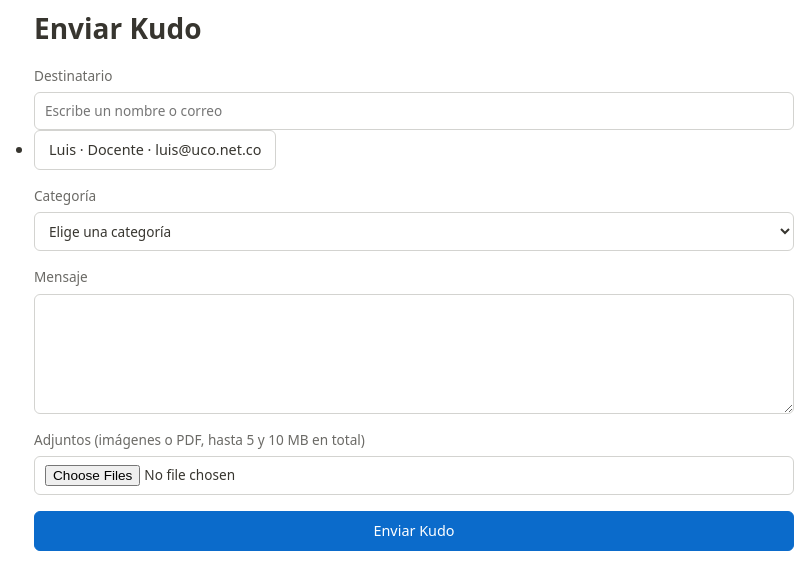
Scenario: publishes the kudo to the chosen recipient and shows the state of each channel
Step 1. Click the button "Luis · Docente · luis@uco.net.co" → (155, 150), box [34,130,276,170]
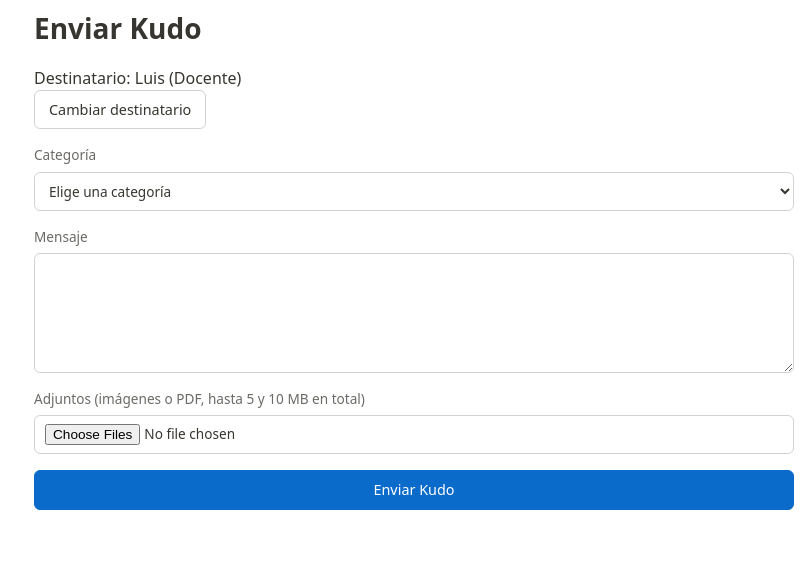
Step 2. Select "Empatía" in the dropdown labelled "Categoría" → (414, 191), box [34,172,794,211]
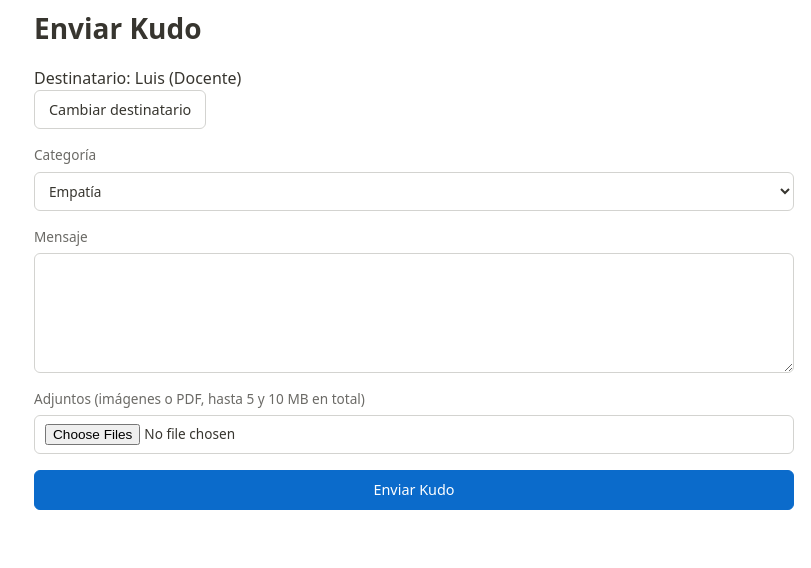
Step 3. Type "Gracias por tu ayuda" into the text box labelled "Mensaje" → (414, 313), box [34,253,794,373]
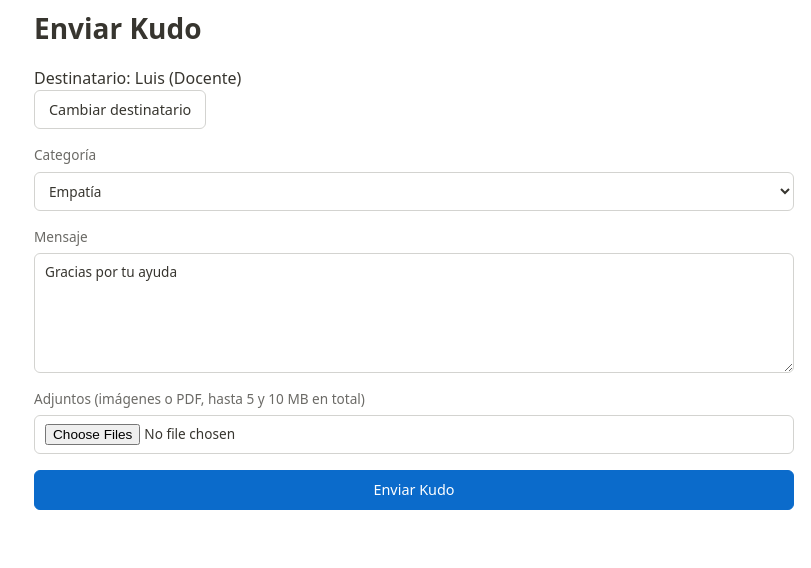
Step 4. Click the button "Enviar Kudo" → (414, 490), box [34,470,794,510]
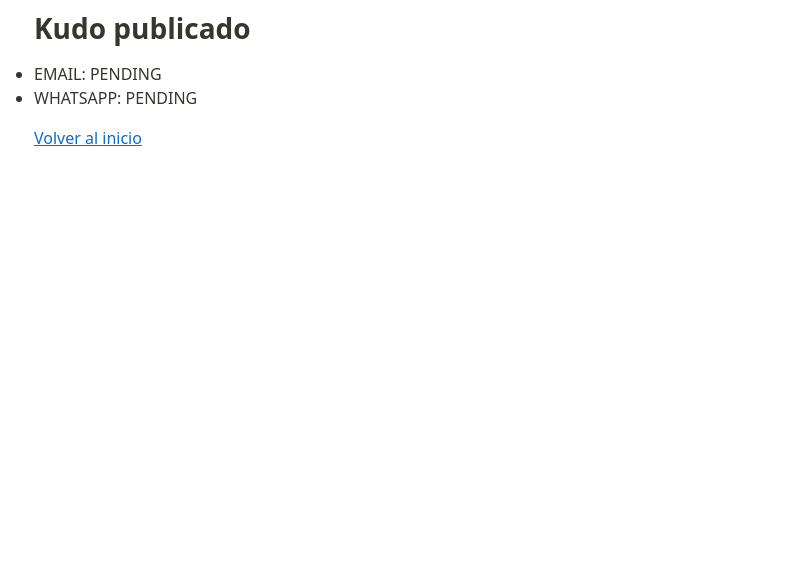
Expected: the list item "EMAIL: PENDING" is shown, [34,63,162,85]
Expected: the list item "WHATSAPP: PENDING" is shown, [34,87,197,109]
